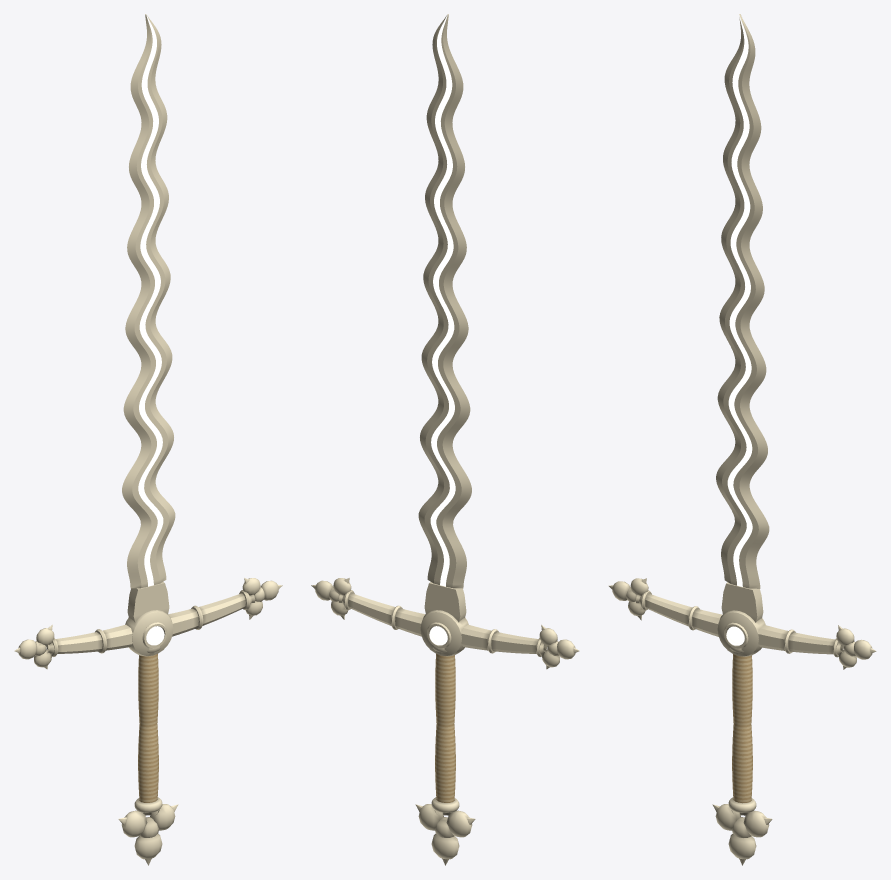
File: greatsword.glb
3 renders of one model, left to right at view 1: azimuth 30°, elevation 25°; view 2: azimuth 150°, elevation 25°; view 3: azimuth 330°, elevation 25°, orthographic.
Visible parts, largest first — view 1: greatsword; view 2: greatsword; view 3: greatsword.
Boxes of the visible parts, x1,y1,x2,y2 form: greatsword: [14, 14, 282, 865]; greatsword: [311, 14, 579, 865]; greatsword: [608, 14, 876, 865].
Bounding box in the file's own units: 0.602 × 1.82 × 0.076.
